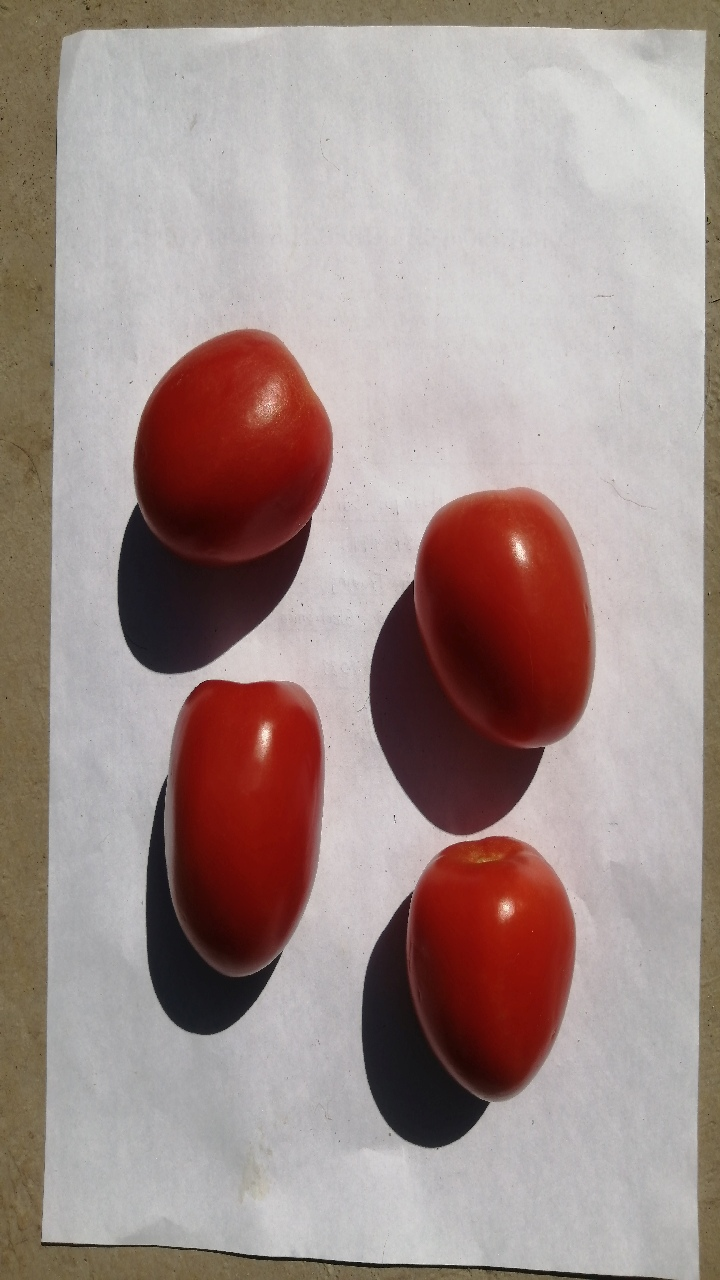tomateRojo: (129, 637, 364, 1000), (100, 300, 341, 586), (389, 802, 598, 1128), (384, 474, 603, 768)
